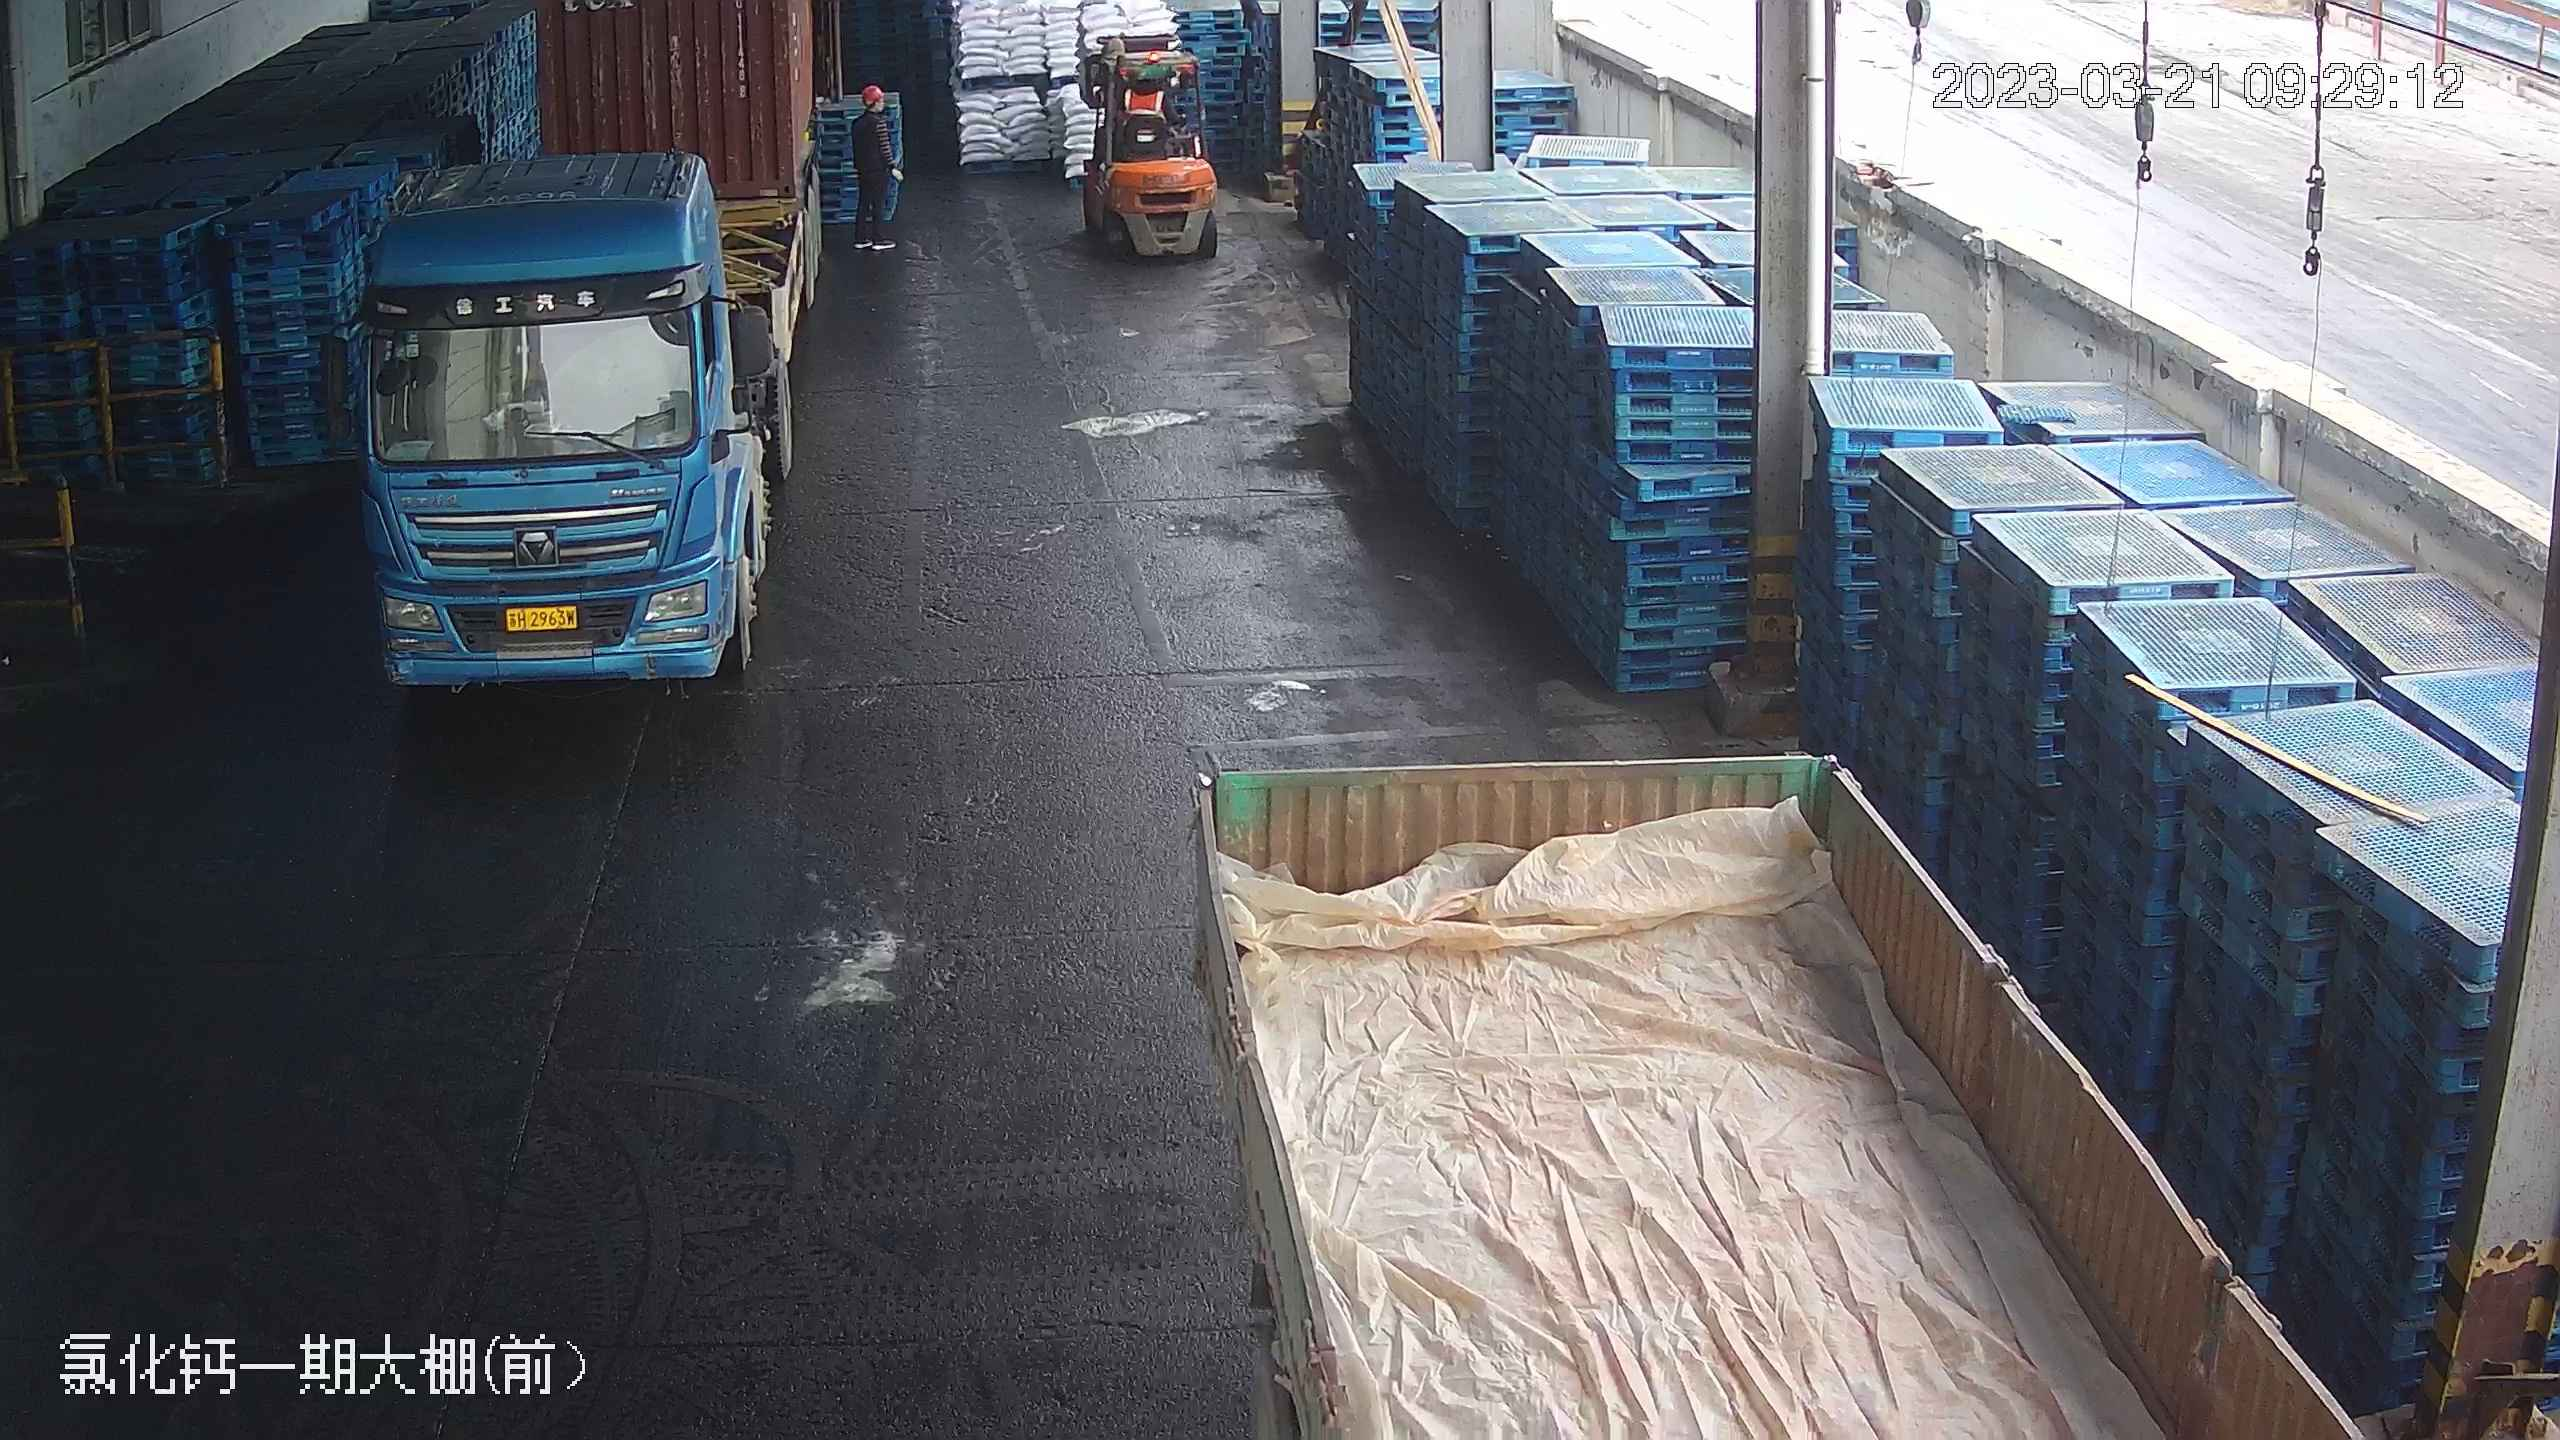head: (851, 80, 894, 130)
helmet: (862, 81, 885, 100)
people: (849, 79, 900, 254)
truck: (1163, 756, 2393, 1440), (330, 0, 823, 692)
